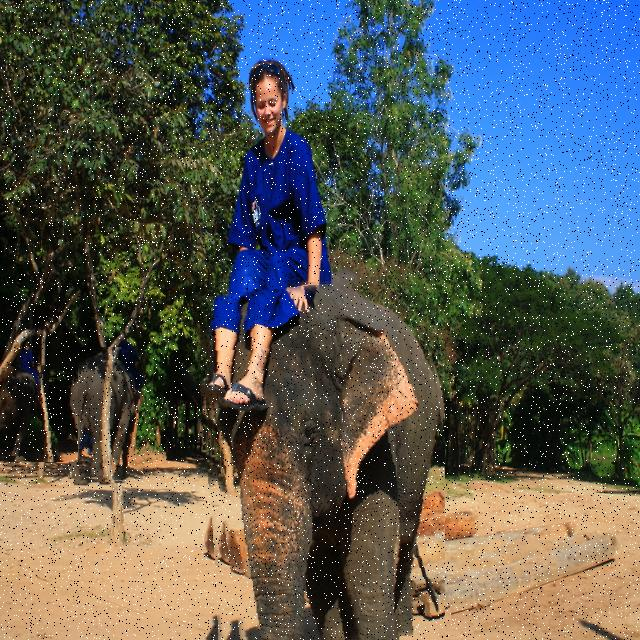elephant: (200, 277, 445, 640), (70, 347, 153, 484), (32, 361, 78, 462), (0, 367, 39, 456)
